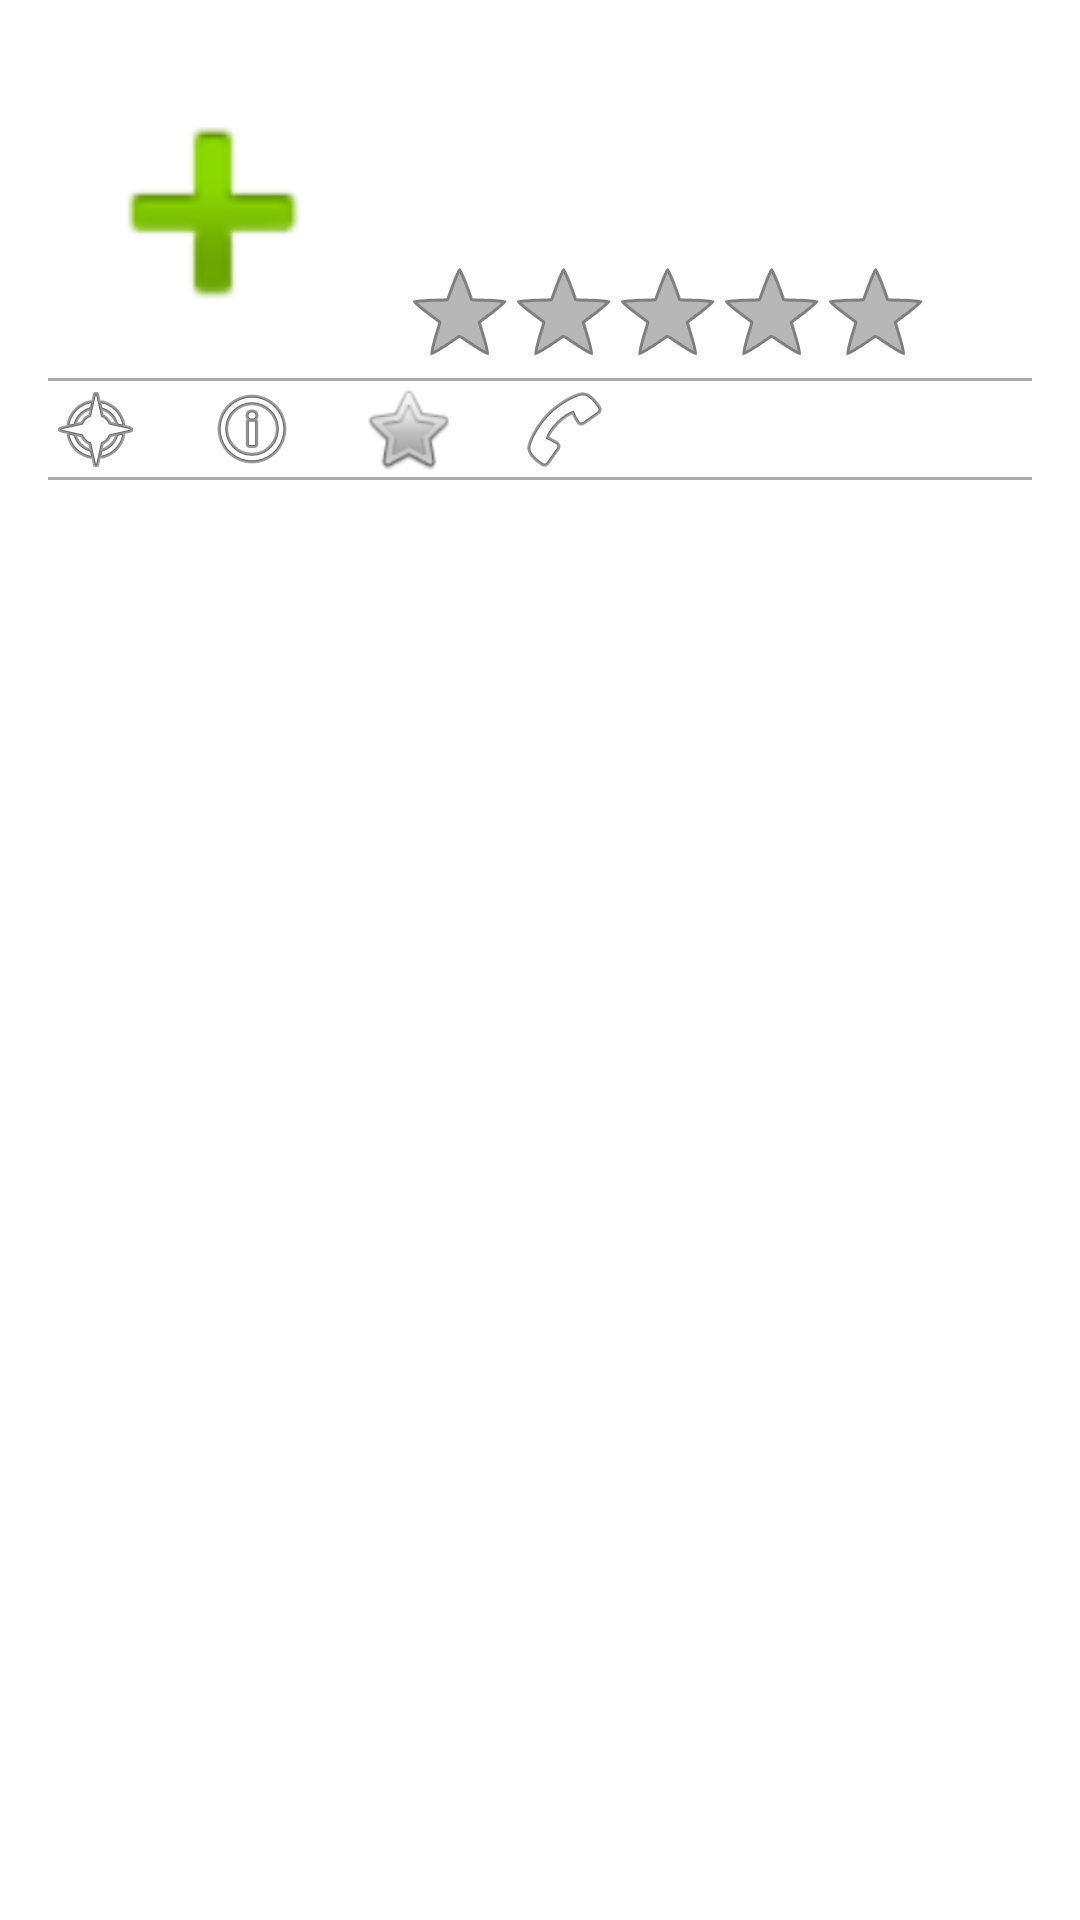

Icon click points for this 1080px×1920px phone screenshot, format [x,y]:
Call: [564,429]
Info: [252,429]
Navigate to restaurant: [96,429]
Rate: [409,430]
